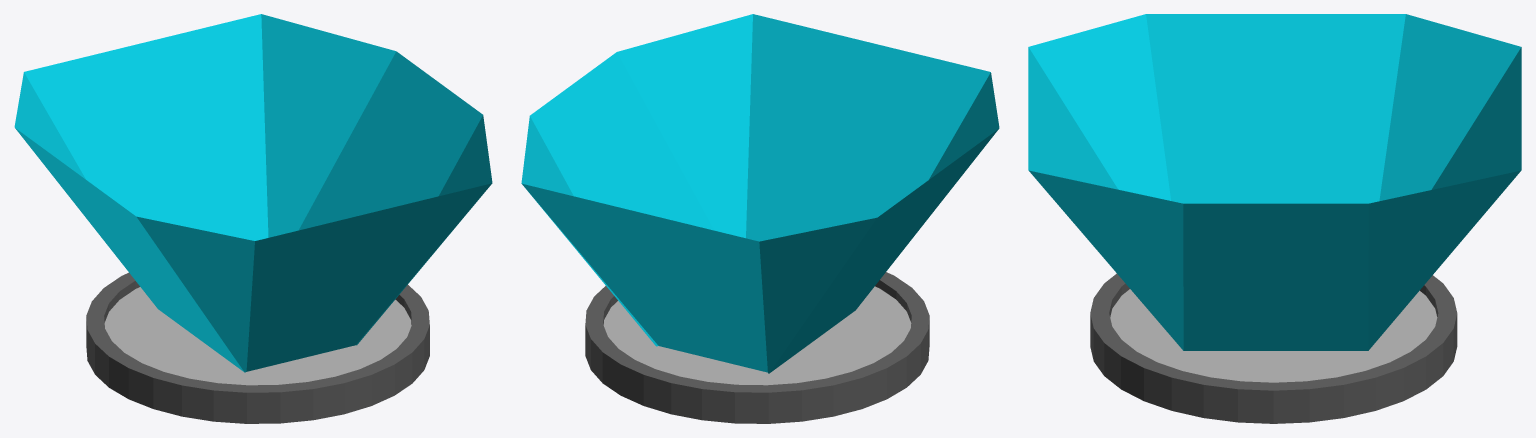
The model's file is Spawner.fbx.
3 views of the same model, side by side, from view 1: azimuth 30°, elevation 25°; view 2: azimuth 150°, elevation 25°; view 3: azimuth 270°, elevation 25° (orthographic). The views are drawn at different scales.
Visible parts, largest first — view 1: Plane.003, Cylinder; view 2: Plane.003, Cylinder; view 3: Plane.003, Cylinder.
Boxes of the visible parts, left/top/right/bottom form: Plane.003: left=14, top=14, right=492, bottom=372; Cylinder: left=86, top=272, right=429, bottom=423; Plane.003: left=521, top=14, right=999, bottom=373; Cylinder: left=585, top=272, right=929, bottom=423; Plane.003: left=1028, top=14, right=1521, bottom=350; Cylinder: left=1090, top=273, right=1457, bottom=423.
Size of the model in its own units: 244 by 143 by 269.
